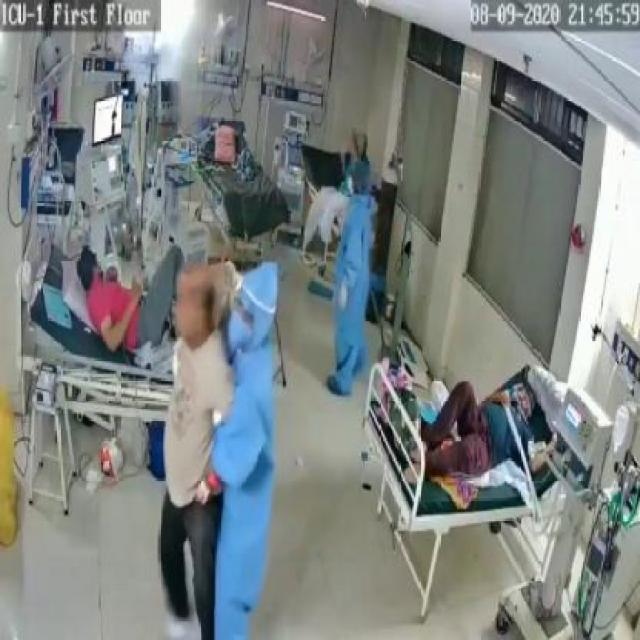smoke: (124, 1, 192, 81)
